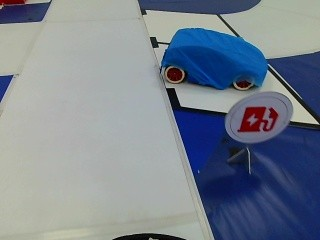battery: (233, 102, 281, 137)
car: (151, 23, 269, 93)
